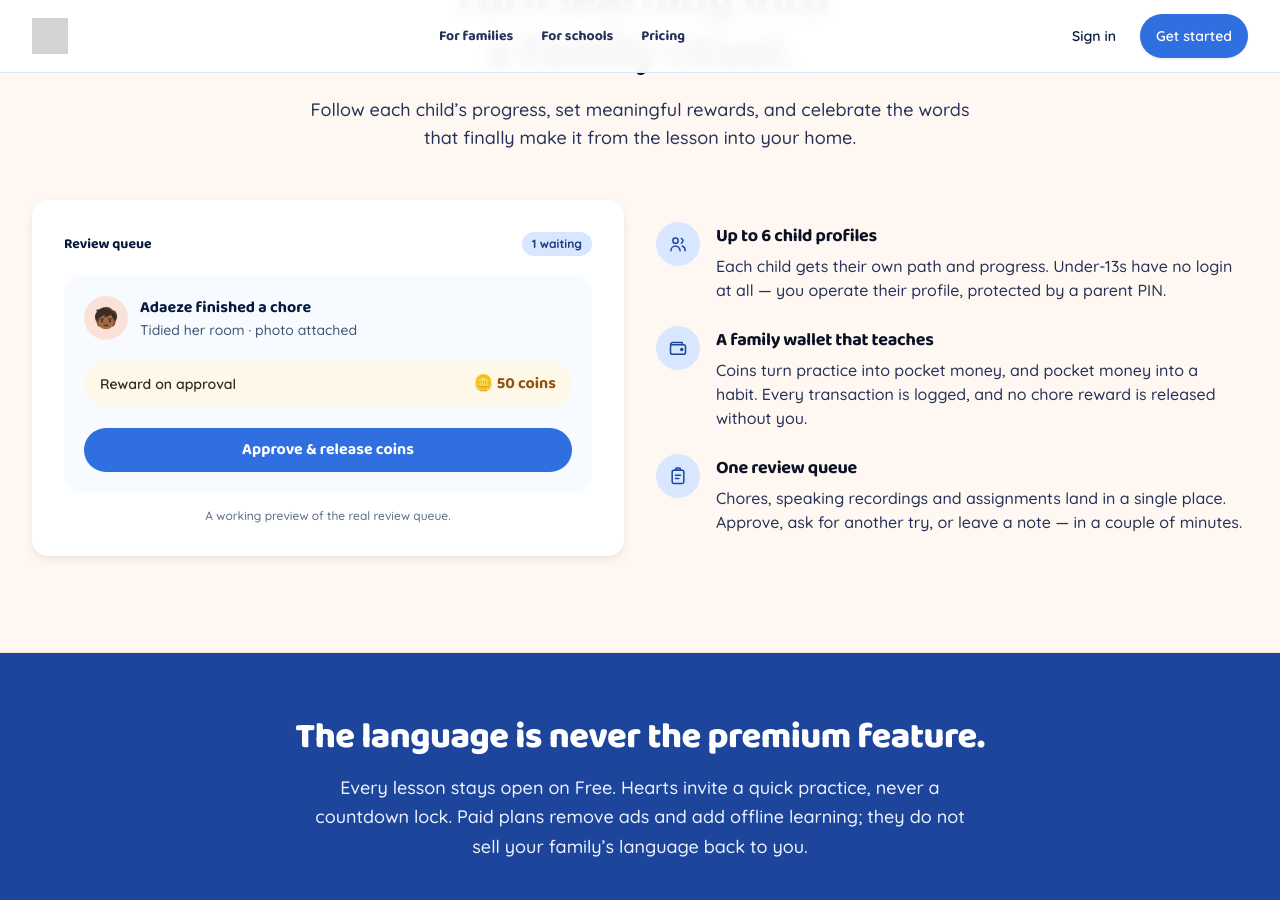
Scenario: LandingPage › releases coins only after the parent approves
The image size is (1280, 900).
(page scrolled)
Expected: the text "50 coins released" is not shown
Click the button "Approve & release coins": point(328, 450) [84, 428, 572, 472]
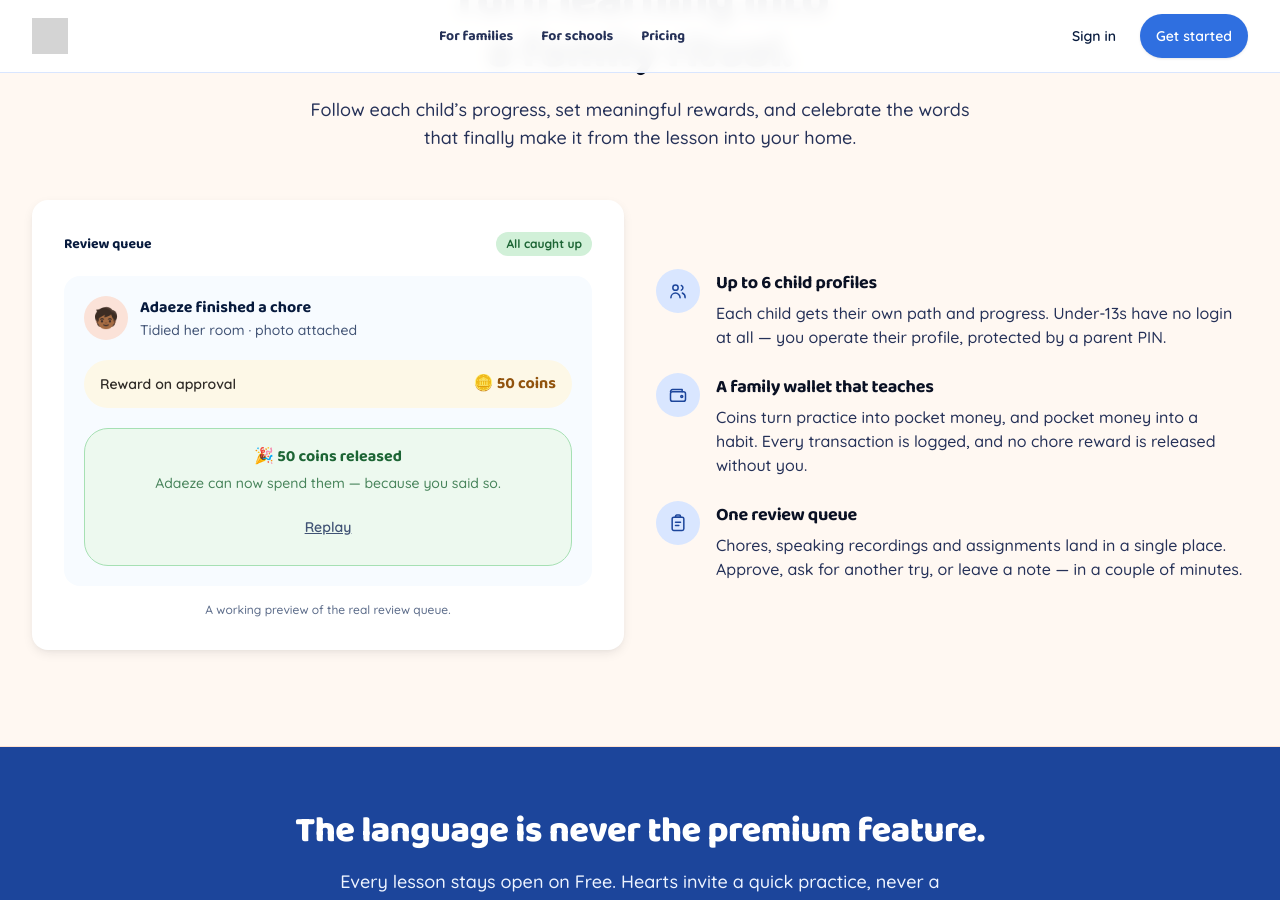
Expected: the text "🎉 50 coins released" is shown, [254, 444, 402, 469]
Expected: the text "All caught up" is shown, [496, 232, 592, 256]
